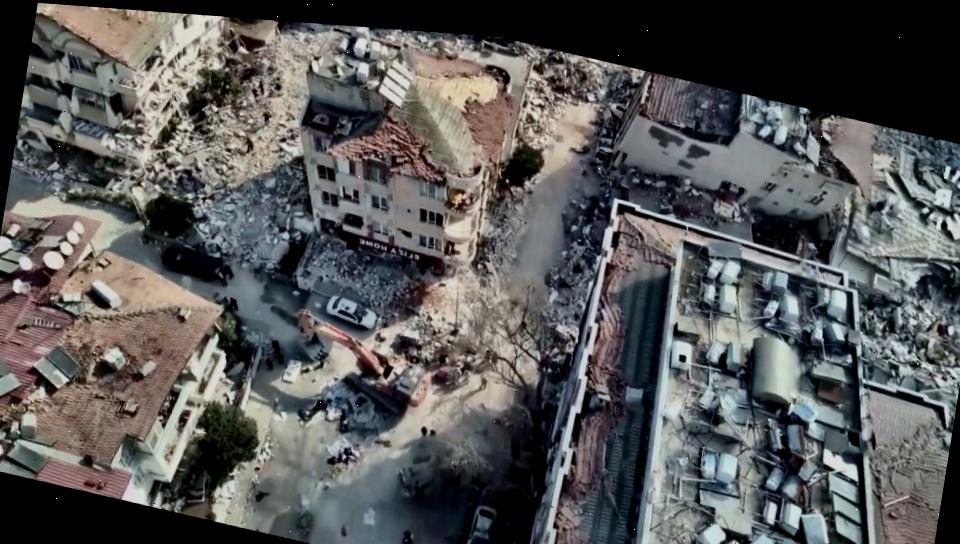kapali: (511, 45, 627, 178)
